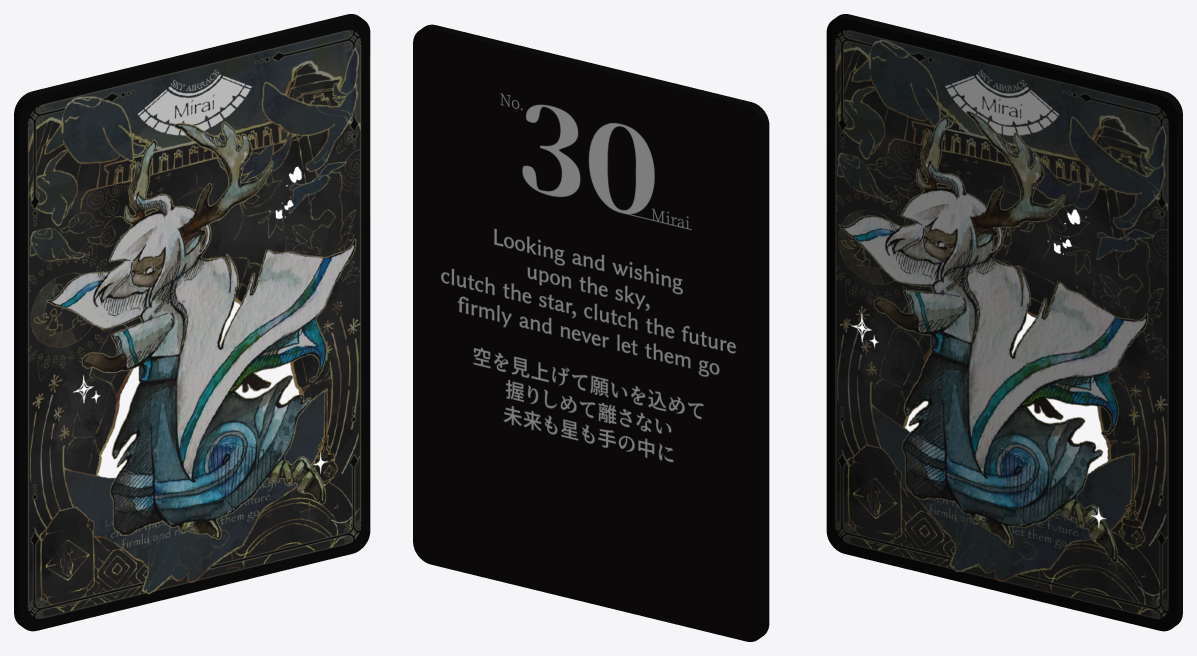
Rendered from 30_Mirai.glb.
The picture shows the model from 3 angles, left to right: view 1: azimuth 30°, elevation 25°; view 2: azimuth 150°, elevation 25°; view 3: azimuth 330°, elevation 25°; orthographic projection.
Parts seen in each view (by area): view 1: きらきら; view 2: きらきら; view 3: きらきら.
Boxes of the visible parts, bbox=[...] form: きらきら: bbox=[14, 14, 370, 631]; きらきら: bbox=[413, 24, 769, 641]; きらきら: bbox=[826, 14, 1182, 631].
Size of the model in its own units: 0.236 by 0.344 by 0.023.
5 materials, 4 textured.
